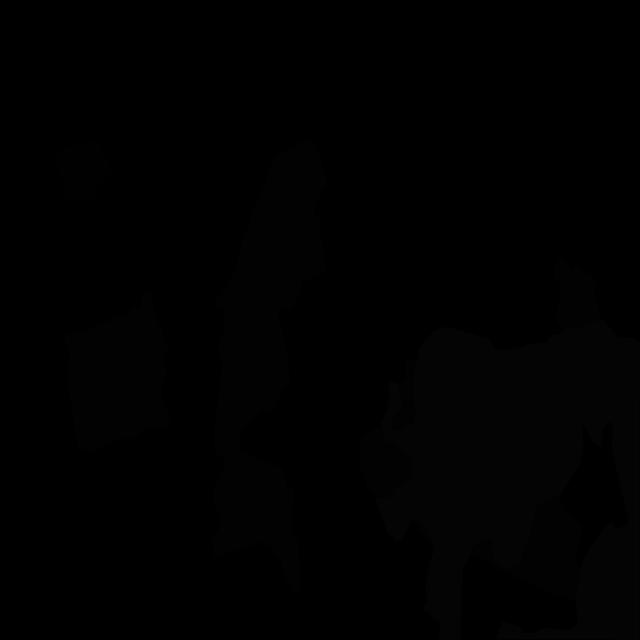cardboard: (214, 138, 327, 458), (64, 293, 170, 452), (212, 448, 301, 592), (471, 497, 582, 603), (358, 425, 412, 497), (554, 257, 601, 329), (391, 359, 416, 430), (413, 520, 434, 549)
rigid_plastic: (53, 139, 110, 202)
soft_plastic: (374, 326, 584, 640), (496, 320, 640, 640)
